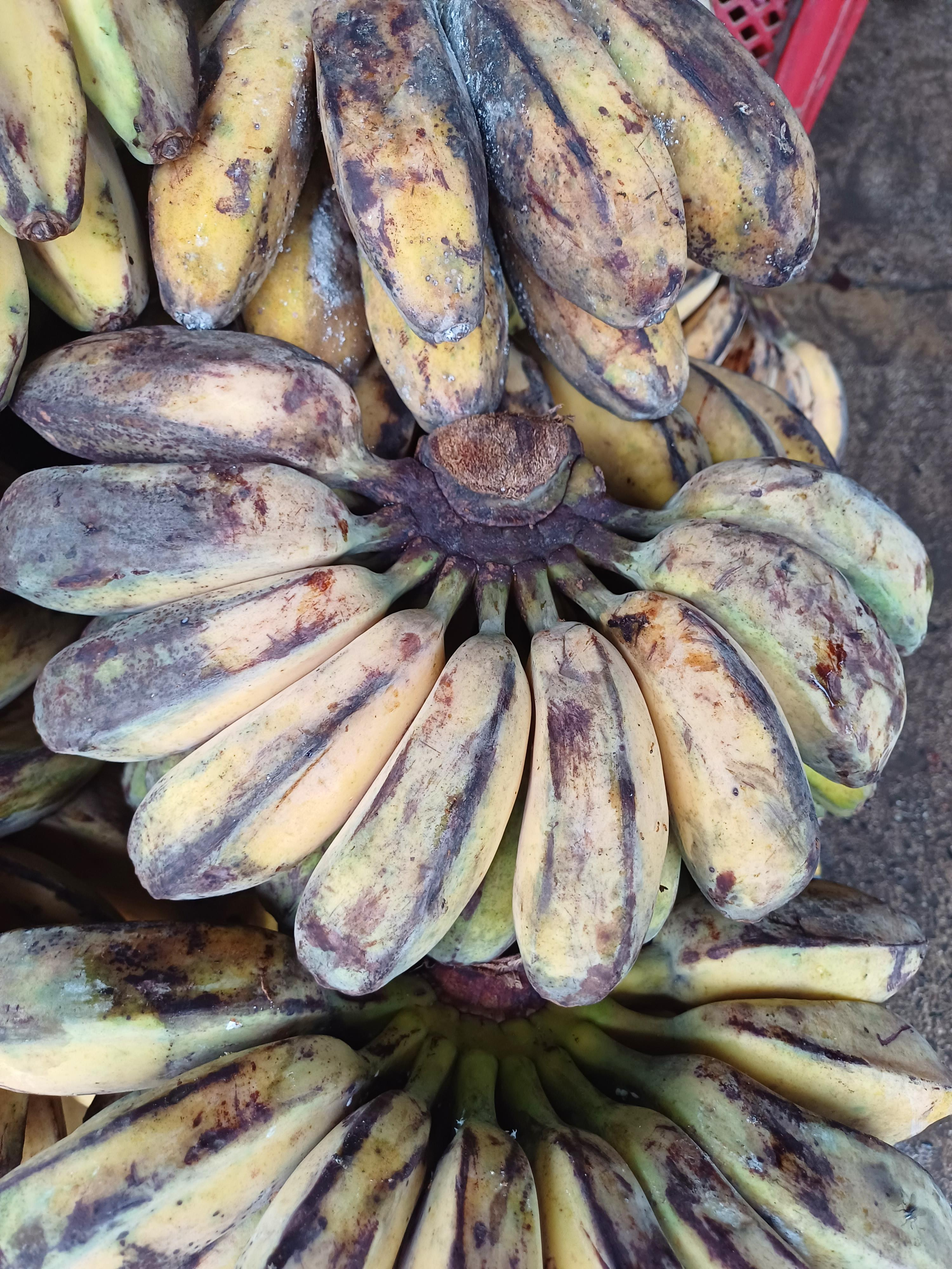overripe: (149, 0, 818, 430)
underripe: (0, 327, 931, 1007), (0, 879, 952, 1268), (0, 0, 202, 412)
